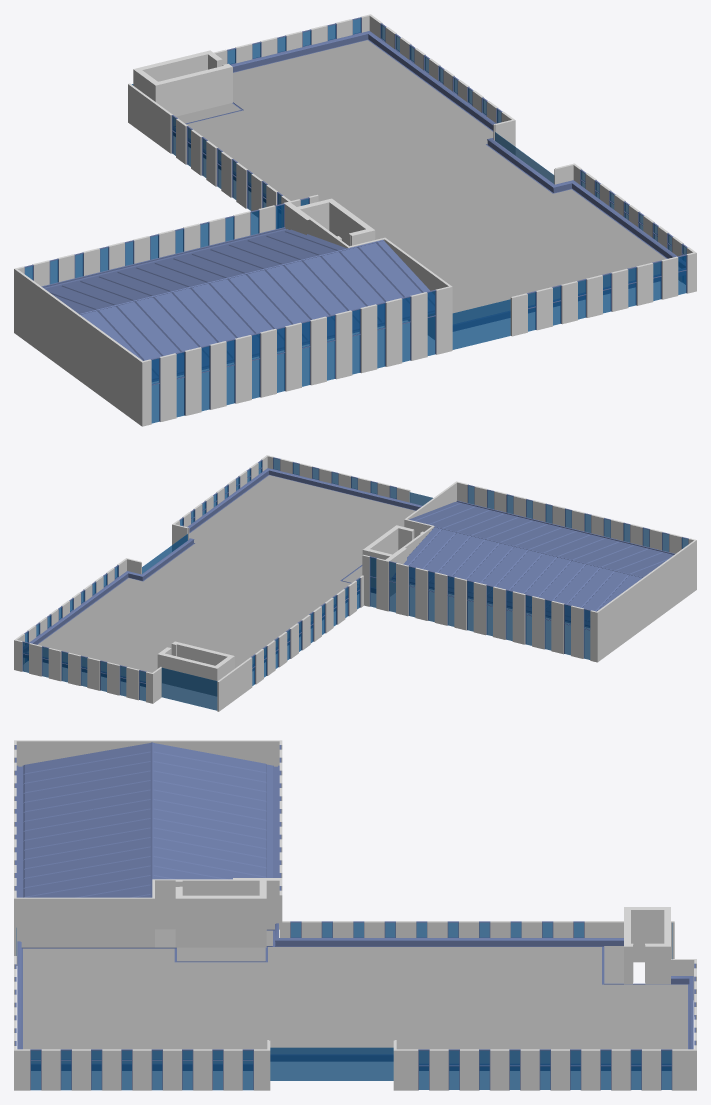
3 views of the same model, one above another, from view 1: azimuth 30°, elevation 25°; view 2: azimuth 150°, elevation 25°; view 3: azimuth 270°, elevation 25° (orthographic). The views are drawn at different scales.
Visible parts, largest first — view 1: Line229, Box467, Line207, RF, Box471, Loft003, Line211, Box473, Box472, Box469, Line212, Box468 (+5 smaller); view 2: Line229, Box467, Line207, RF, Box469, Loft003, Line211, Box471, Box470, Line209, Box468, Line216 (+4 smaller); view 3: Line229, Box467, RF, Line207, Loft003, Box474, Box475, Line211, Box468, Line216, Line214, Line215 (+1 smaller).
Part boxes in pixels (<box>): Line229: <box>173,40,679,323</box>; Box467: <box>41,227,434,381</box>; Line207: <box>14,194,452,426</box>; RF: <box>128,14,696,336</box>; Box471: <box>151,291,435,423</box>; Loft003: <box>173,31,685,331</box>; Line211: <box>133,50,232,116</box>; Box473: <box>528,255,686,331</box>; Box472: <box>452,299,510,349</box>; Box469: <box>25,198,308,284</box>; Line212: <box>150,289,436,421</box>; Box468: <box>172,116,281,227</box>; Line229: <box>28,475,415,681</box>; Box467: <box>391,500,675,627</box>; Line207: <box>362,481,696,662</box>; RF: <box>14,455,424,711</box>; Box469: <box>370,557,590,659</box>; Loft003: <box>23,468,422,686</box>; Line211: <box>157,641,234,695</box>; Box471: <box>468,485,688,551</box>; Box470: <box>23,642,145,701</box>; Line209: <box>369,556,590,658</box>; Box468: <box>252,579,359,685</box>; Line216: <box>26,474,416,652</box>; Line229: <box>23,929,687,1063</box>; Box467: <box>16,742,279,897</box>; RF: <box>14,878,696,1090</box>; Line207: <box>14,740,282,965</box>; Loft003: <box>17,923,693,1070</box>; Box474: <box>419,1050,671,1089</box>; Box475: <box>31,1050,253,1090</box>; Line211: <box>624,907,670,984</box>; Box468: <box>291,922,583,937</box>; Line216: <box>21,929,689,1049</box>; Line214: <box>418,1049,672,1090</box>; Line215: <box>30,1049,253,1090</box>.
Size of the model in its own units: 59.7 by 6.65 by 60.8.
